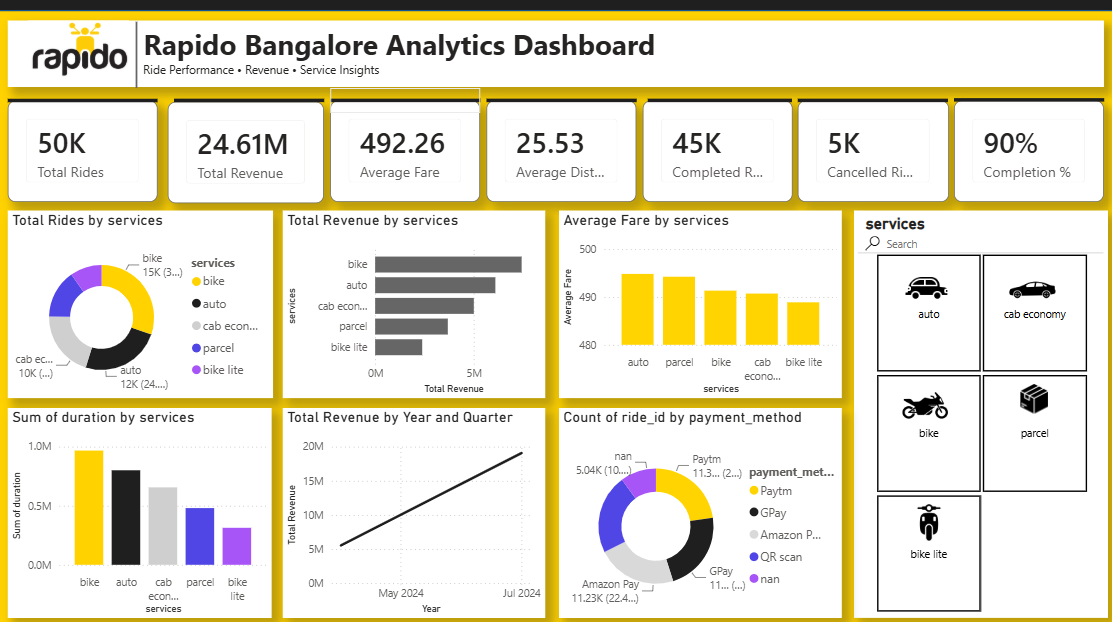

Layout of this report page (visuals, bound fields, positions):
{"tool":"powerbi","page":{"name":"Page 1","canvas":[1280,720],"ordinal":0},"visuals":[{"type":"cardVisual","fields":{"Data":["rides_data.Total Rides"]},"box":[10,117.1,171.4,115.7],"z":0},{"type":"cardVisual","fields":{"Data":["rides_data.Total Revenue"]},"box":[192.9,118.6,178.6,115.7],"z":1000},{"type":"cardVisual","fields":{"Data":["rides_data.Average Fare"]},"box":[378.6,117.1,171.4,115.7],"z":2000},{"type":"cardVisual","fields":{"Data":["rides_data.Average Distance"]},"box":[557.1,117.1,171.4,115.7],"z":3000},{"type":"cardVisual","fields":{"Data":["rides_data.Completed Rides"]},"box":[735.7,117.1,171.4,115.7],"z":4000},{"type":"cardVisual","fields":{"Data":["rides_data.Cancelled Rides"]},"box":[912.9,117.1,172.9,115.7],"z":5000},{"type":"cardVisual","fields":{"Data":["rides_data.Completion %"]},"box":[1091.4,117.1,171.4,115.7],"z":6000},{"type":"donutChart","fields":{"Y":["rides_data.Total Rides"],"Category":["rides_data.services"]},"box":[10,242.9,302.9,214.3],"z":7000},{"type":"clusteredBarChart","fields":{"Category":["rides_data.services"],"Y":["rides_data.Total Revenue"]},"box":[324.3,242.9,300,214.3],"z":8000},{"type":"textbox","box":[10,25.7,1252.9,75.7],"z":9000},{"type":"clusteredColumnChart","fields":{"Category":["rides_data.services"],"Y":["rides_data.Average Fare"]},"box":[640,242.9,322.9,214.3],"z":10000},{"type":"slicer","fields":{"Values":["rides_data.services"]},"box":[977.1,242.9,290,465.7],"z":11000},{"type":"image","box":[0,25.7,181.4,67.1],"z":12000},{"type":"shape","box":[0,0,1280,15],"z":13000},{"type":"shape","box":[10,102.9,171.4,28.6],"z":14000},{"type":"shape","box":[200,103.3,171.7,28.3],"z":15000},{"type":"shape","box":[378.3,103.3,171.7,28.3],"z":16000},{"type":"shape","box":[556.7,103.3,171.7,28.3],"z":17000},{"type":"shape","box":[741.7,103.3,165,28.3],"z":18000},{"type":"shape","box":[913.3,103.3,171.7,28.3],"z":19000},{"type":"shape","box":[1091.7,101.7,171.7,30],"z":20000},{"type":"clusteredColumnChart","fields":{"Category":["rides_data.services"],"Y":["Sum(rides_data.duration)"]},"box":[10,468.6,301.4,240],"z":21000},{"type":"lineChart","fields":{"Category":["rides_data.date.Variation.Date Hierarchy.Year","rides_data.date.Variation.Date Hierarchy.Quarter","rides_data.date.Variation.Date Hierarchy.Month","rides_data.date.Variation.Date Hierarchy.Day"],"Y":["rides_data.Total Revenue"]},"box":[324.3,468.6,300,240],"z":22000},{"type":"donutChart","fields":{"Category":["rides_data.payment_method"],"Y":["CountNonNull(rides_data.ride_id)"]},"box":[640,469,323,240],"z":23000},{"type":"shape","box":[31.4,27.1,251.4,75.7],"z":24000},{"type":"image","box":[977.1,302.9,165.7,57.1],"z":24001},{"type":"image","box":[1091.4,307.1,178.6,52.9],"z":24002},{"type":"image","box":[912.9,578.6,300,41.4],"z":24003},{"type":"image","box":[975.7,440,165.7,51.4],"z":24004},{"type":"image","box":[1091.4,440,182.9,35.7],"z":24006}]}

Visuals, with their boxes in screenshot pixels (x1, y1, x2, y2), scaled from the page's 1280x720 canvas onto the 1112x622 screenshot:
cardVisual - rides_data.Total Rides: [9, 101, 158, 201]
cardVisual - rides_data.Total Revenue: [168, 102, 323, 202]
cardVisual - rides_data.Average Fare: [329, 101, 478, 201]
cardVisual - rides_data.Average Distance: [484, 101, 633, 201]
cardVisual - rides_data.Completed Rides: [639, 101, 788, 201]
cardVisual - rides_data.Cancelled Rides: [793, 101, 943, 201]
cardVisual - rides_data.Completion %: [948, 101, 1097, 201]
donutChart - rides_data.Total Rides x rides_data.services: [9, 210, 272, 395]
clusteredBarChart - rides_data.services x rides_data.Total Revenue: [282, 210, 542, 395]
textbox: [9, 22, 1097, 88]
clusteredColumnChart - rides_data.services x rides_data.Average Fare: [556, 210, 837, 395]
slicer - rides_data.services: [849, 210, 1101, 612]
image: [0, 22, 158, 80]
shape: [0, 0, 1111, 13]
shape: [9, 89, 158, 114]
shape: [174, 89, 323, 114]
shape: [329, 89, 478, 114]
shape: [484, 89, 633, 114]
shape: [644, 89, 788, 114]
shape: [793, 89, 943, 114]
shape: [948, 88, 1098, 114]
clusteredColumnChart - rides_data.services x Sum(rides_data.duration): [9, 405, 271, 612]
lineChart - rides_data.date.Variation.Date Hierarchy.Year x rides_data.date.Variation.Date Hierarchy.Quarter: [282, 405, 542, 612]
donutChart - rides_data.payment_method x CountNonNull(rides_data.ride_id): [556, 405, 837, 612]
shape: [27, 23, 246, 89]
image: [849, 262, 993, 311]
image: [948, 265, 1103, 311]
image: [793, 500, 1054, 536]
image: [848, 380, 992, 425]
image: [948, 380, 1107, 411]
